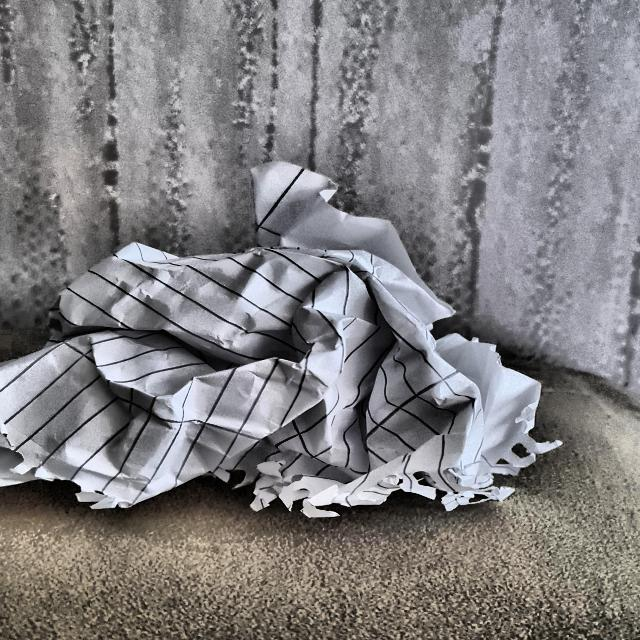paper: (0, 164, 554, 526)
